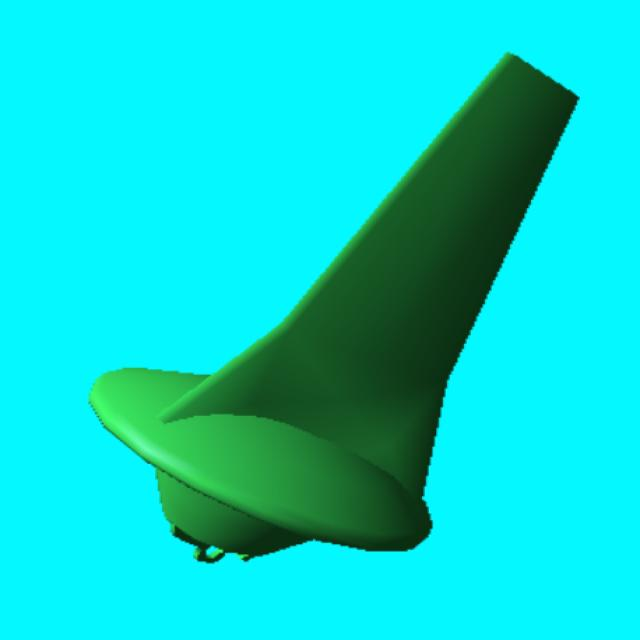GreenBuoy: (90, 54, 576, 561)
